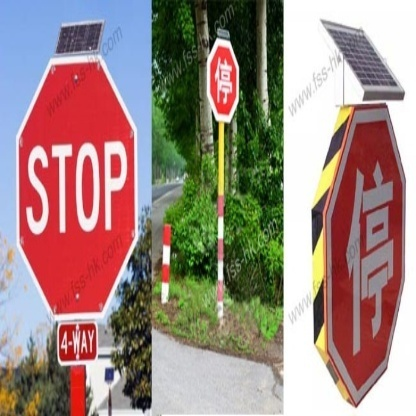stop: (18, 58, 137, 316)
